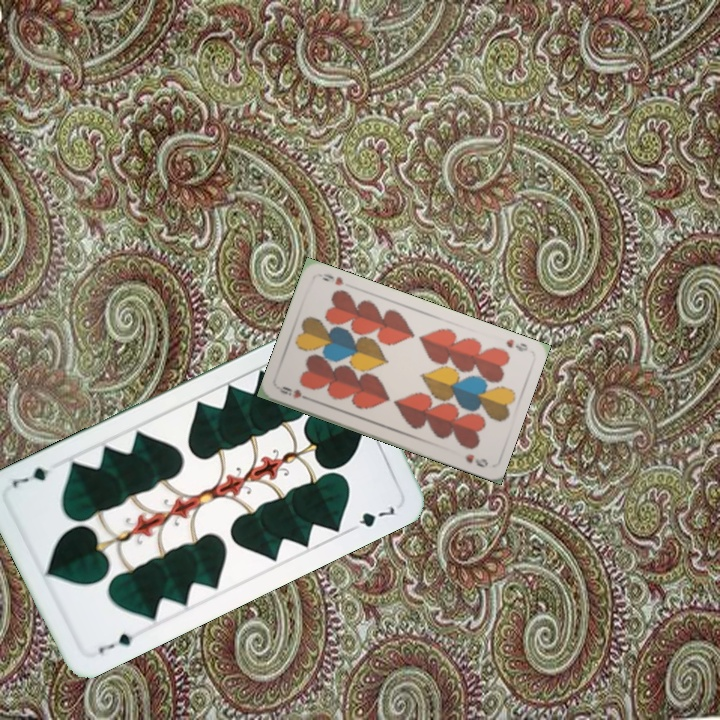G7: (94, 629, 143, 657)
H9: (274, 382, 314, 403), (502, 335, 530, 354)
